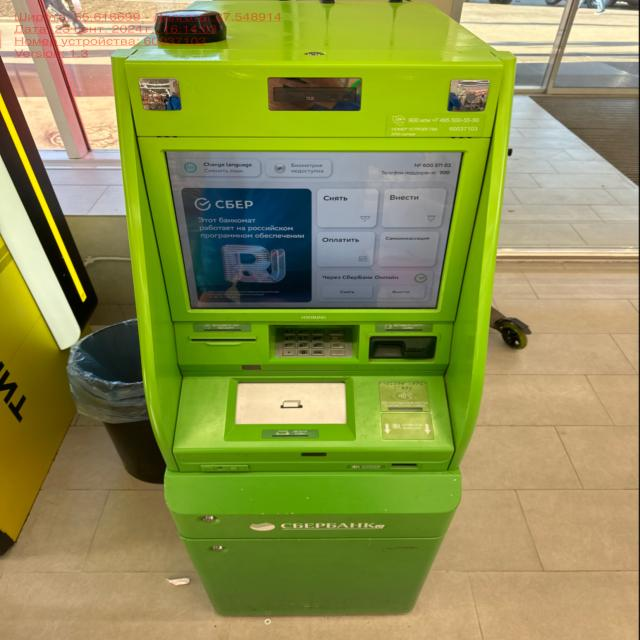bank: (111, 0, 511, 618)
